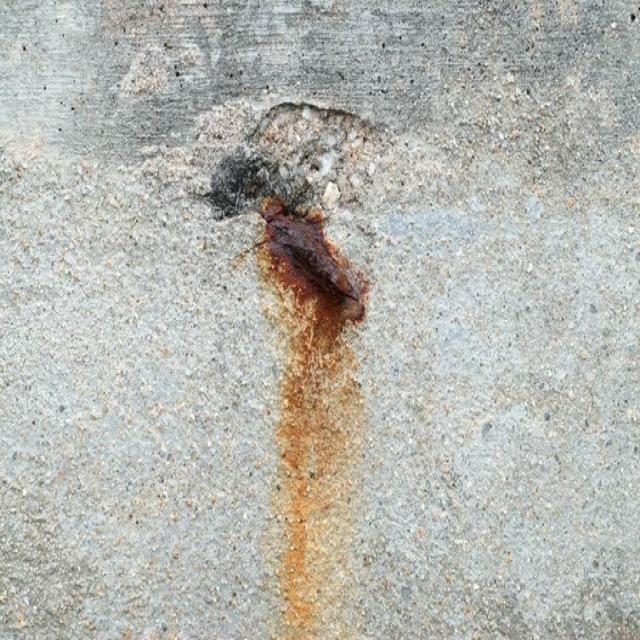stain_mould: (264, 204, 362, 628)
